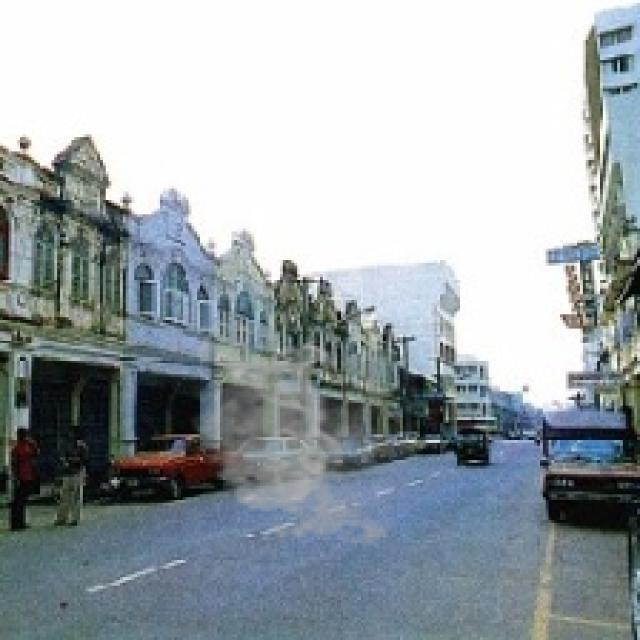Smoke: (188, 337, 418, 552)
